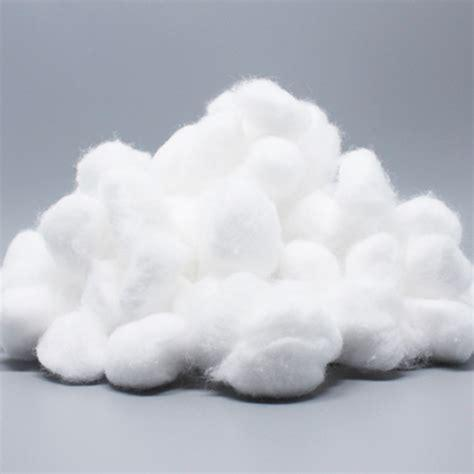cotton: (1, 79, 474, 403)
